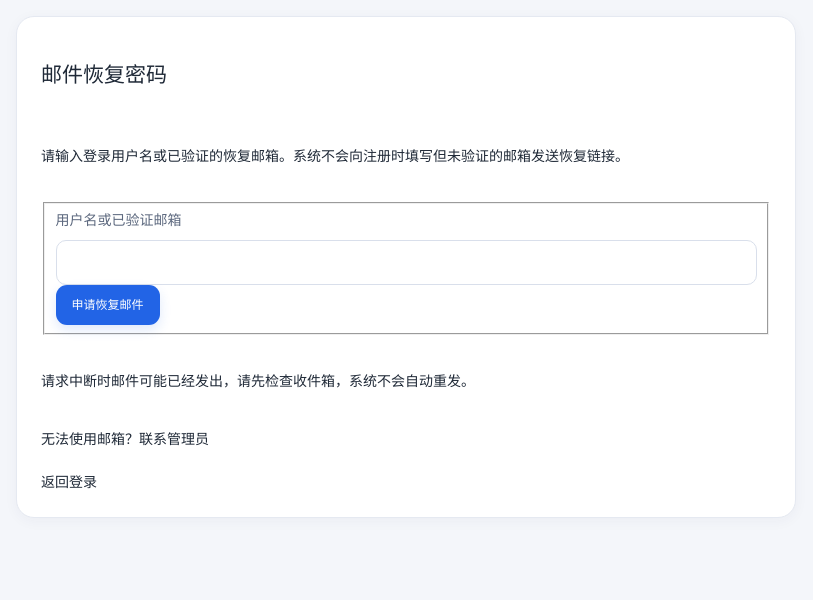
Scenario: cancelled sends unlock the form, explain unknown outcome and never replay automatically
Type "first-user" into the field labelled "用户名或已验证邮箱" at (406, 262), box [56,240,756,285]
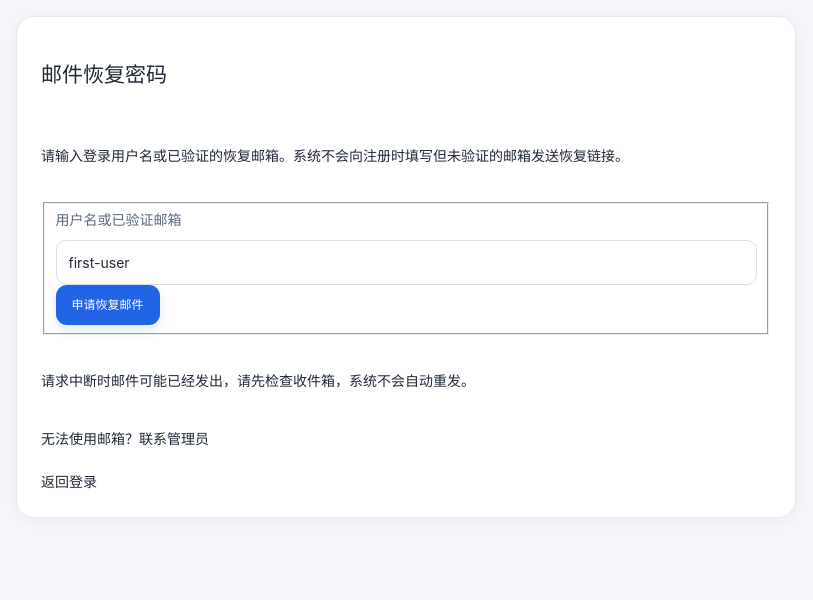
Click the button "申请恢复邮件" at (108, 305), box [56,285,160,325]
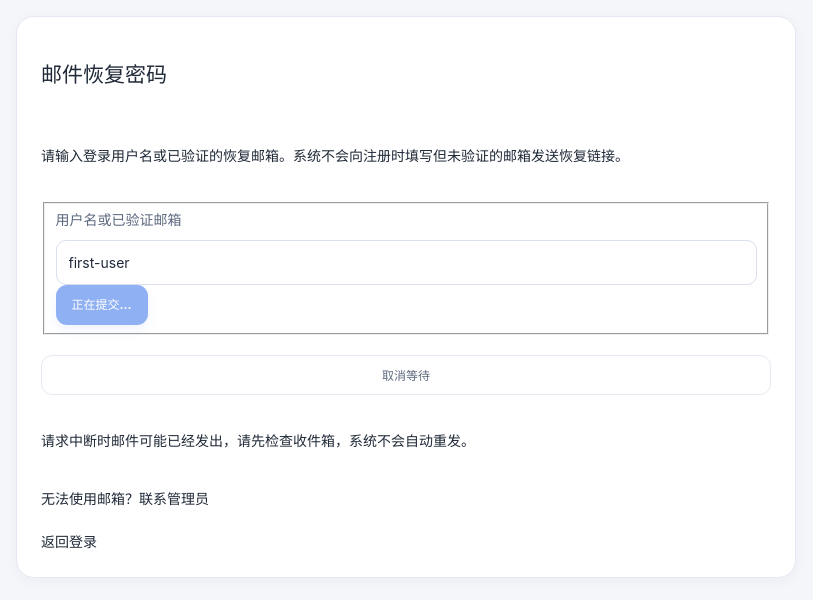
Click the button "取消等待" at (406, 375), box [41,355,771,395]
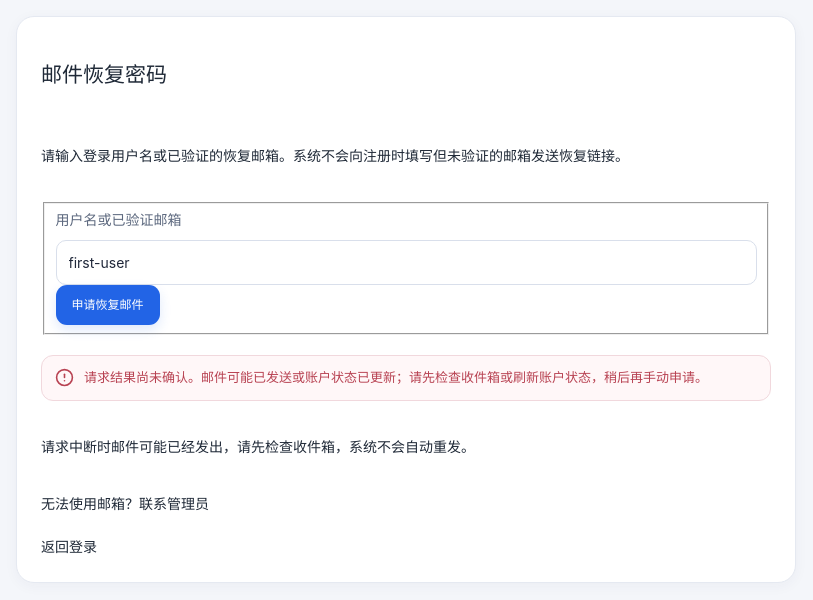
Expected: the button "申请恢复邮件" is enabled, [56,285,160,325]
Expected: the text "请求结果尚未确认。邮件可能已发送或账户状态已更新；请先检查收件箱或刷新账户状态，稍后再手动申请。" is shown, [84,368,757,388]
